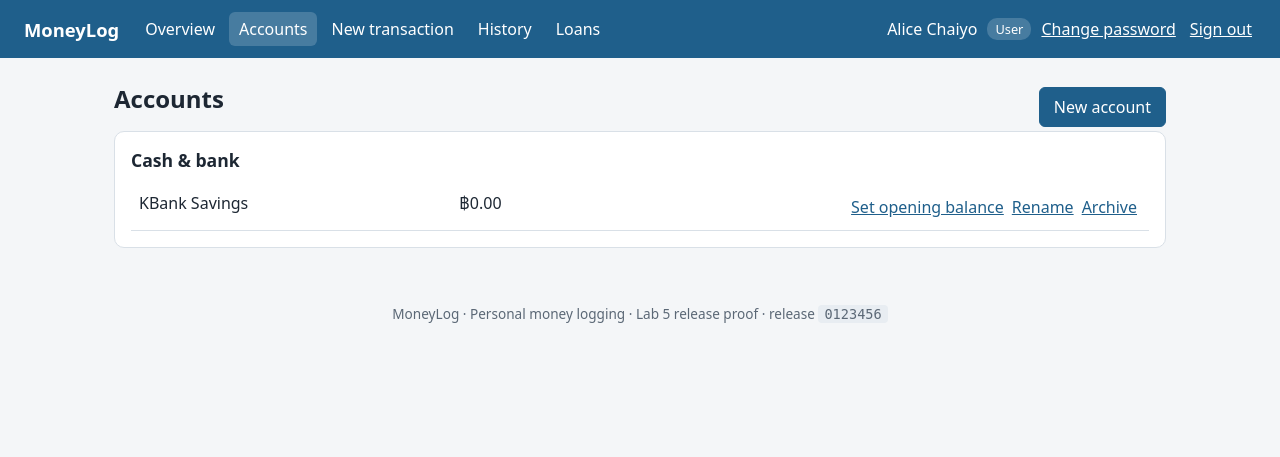
Test: TEST-67 account management on the Accounts page (AC-50) › creates an account and shows it in its type group
Click the button "New account" at x=1102, y=106, box left=1039, top=86, right=1166, bottom=126
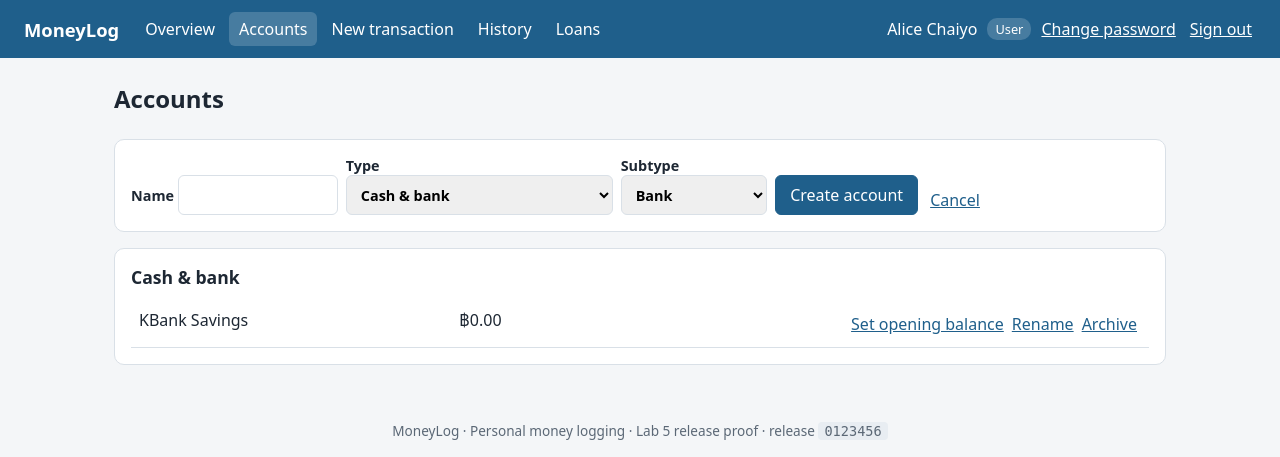
Type "SCB Savings" into the field named "Account name" at x=258, y=195, box left=178, top=175, right=338, bottom=215
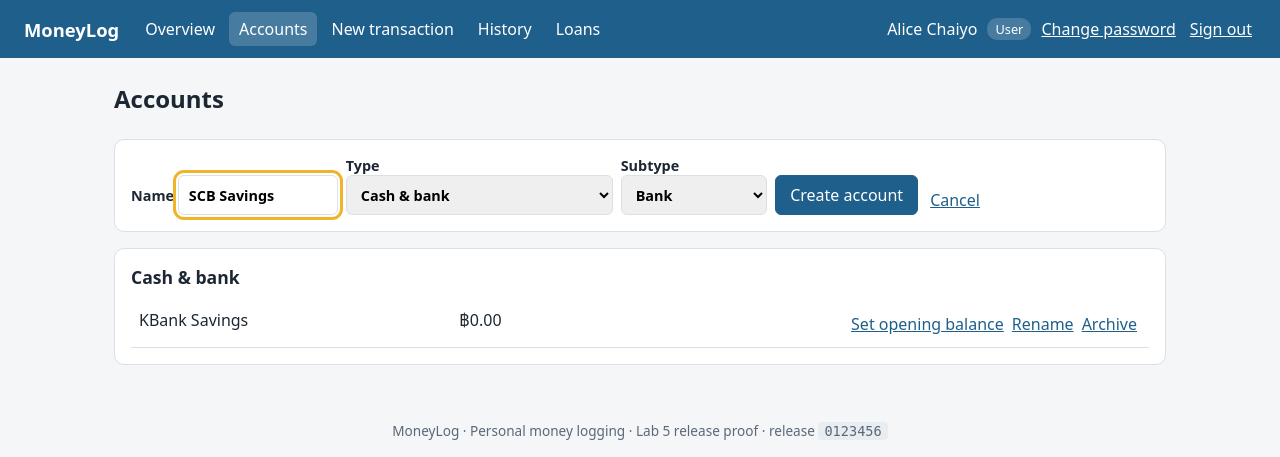
Select "Cash & bank" in the dropdown named "Account type" at x=479, y=195, box left=346, top=175, right=613, bottom=215
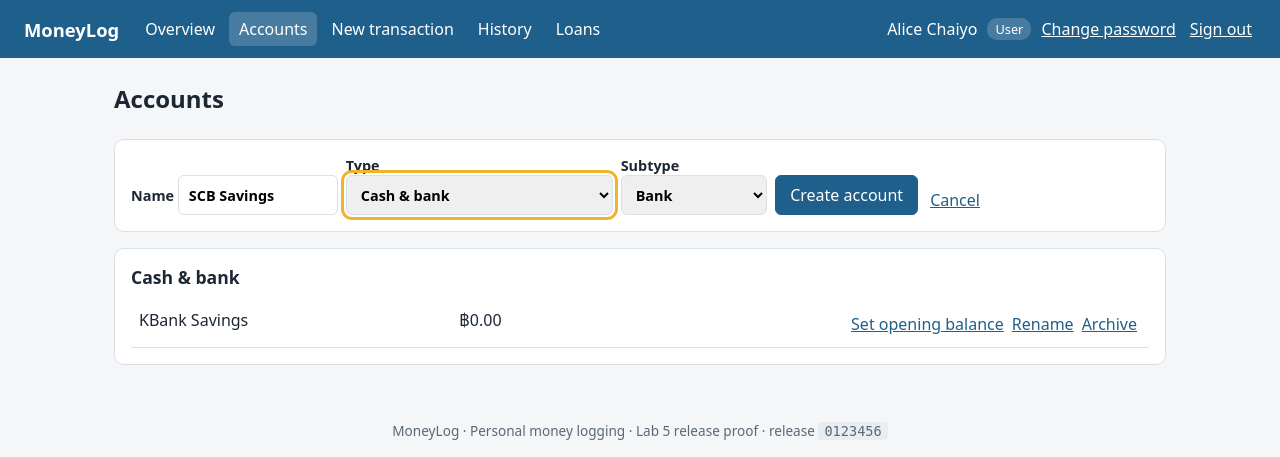
Select "Bank" in the dropdown labelled "Subtype" at x=694, y=195, box left=621, top=175, right=767, bottom=215
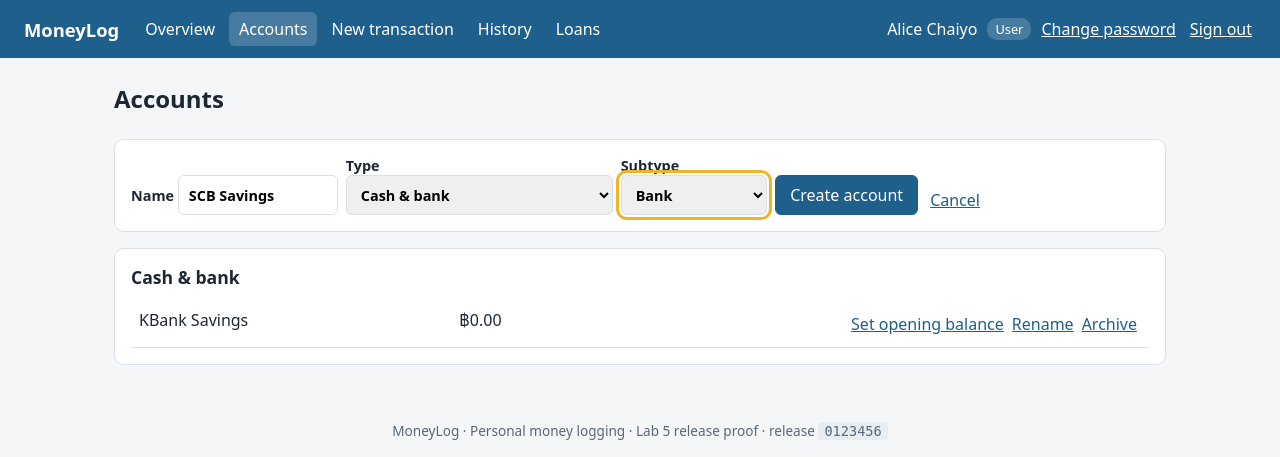
Click the button "Create account" at x=847, y=195, box left=775, top=175, right=918, bottom=215
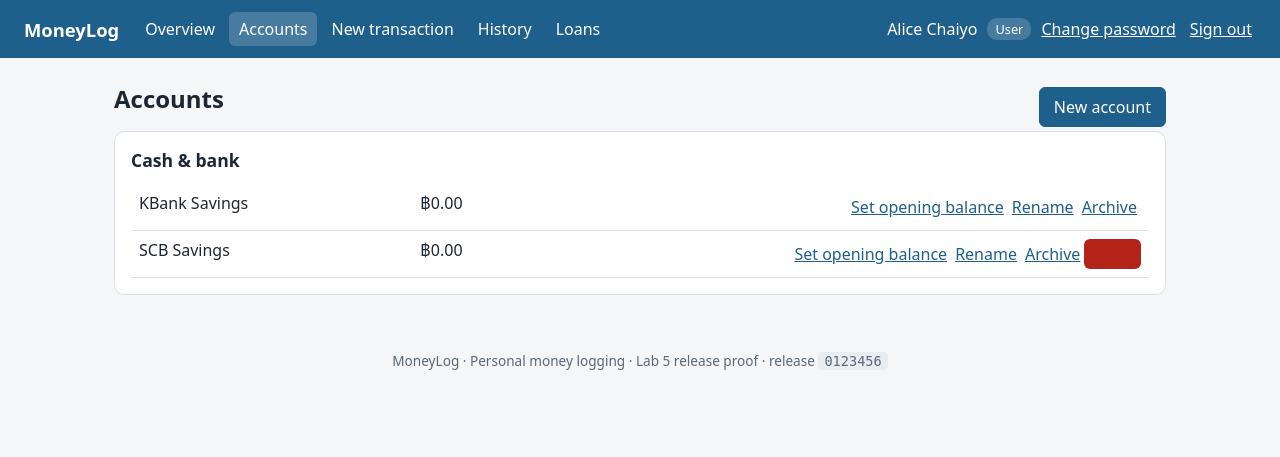
expect the cell with test id "balance-SCB Savings" reads "฿0.00": met, box left=420, top=239, right=463, bottom=261
